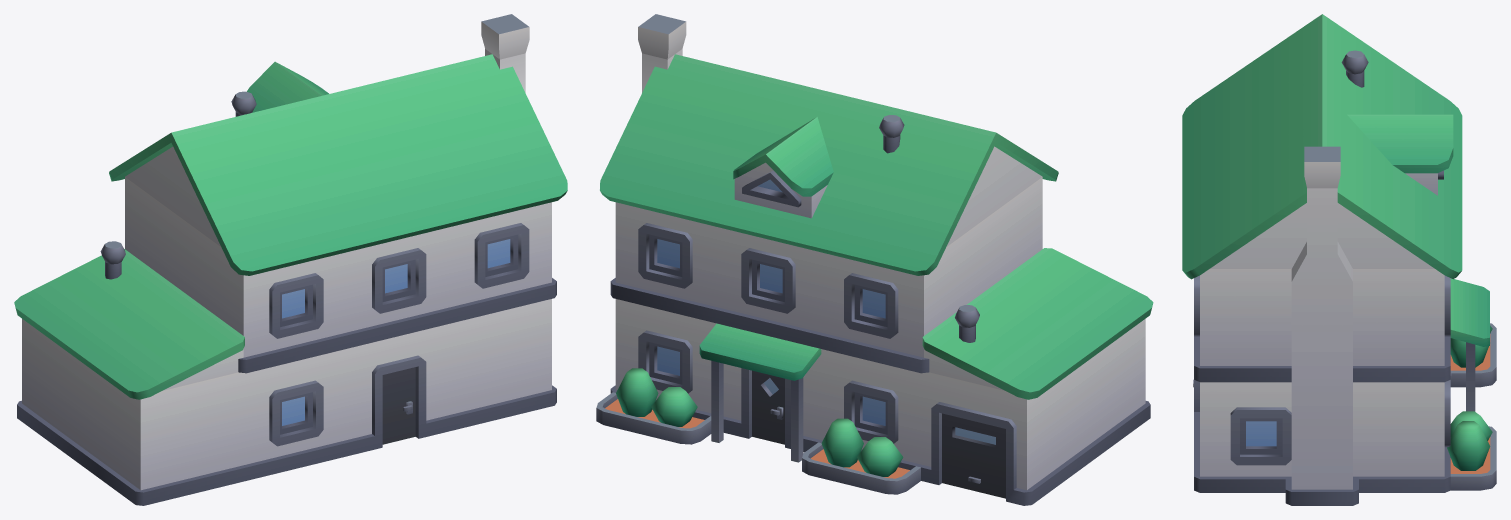
Rendered from building-type-d.glb.
3 views of the same model, side by side, from view 1: azimuth 30°, elevation 25°; view 2: azimuth 150°, elevation 25°; view 3: azimuth 270°, elevation 25° (orthographic). The views are drawn at different scales.
Parts seen in each view (by area): view 1: building-type-d; view 2: building-type-d; view 3: building-type-d.
Boxes of the visible parts, x1=… form: building-type-d: x1=14, y1=14, x2=567, y2=505; building-type-d: x1=596, y1=14, x2=1153, y2=505; building-type-d: x1=1182, y1=14, x2=1496, y2=505.
Bounding box in the file's own units: 1.76 × 1.24 × 1.03.
1 material, 1 textured.
